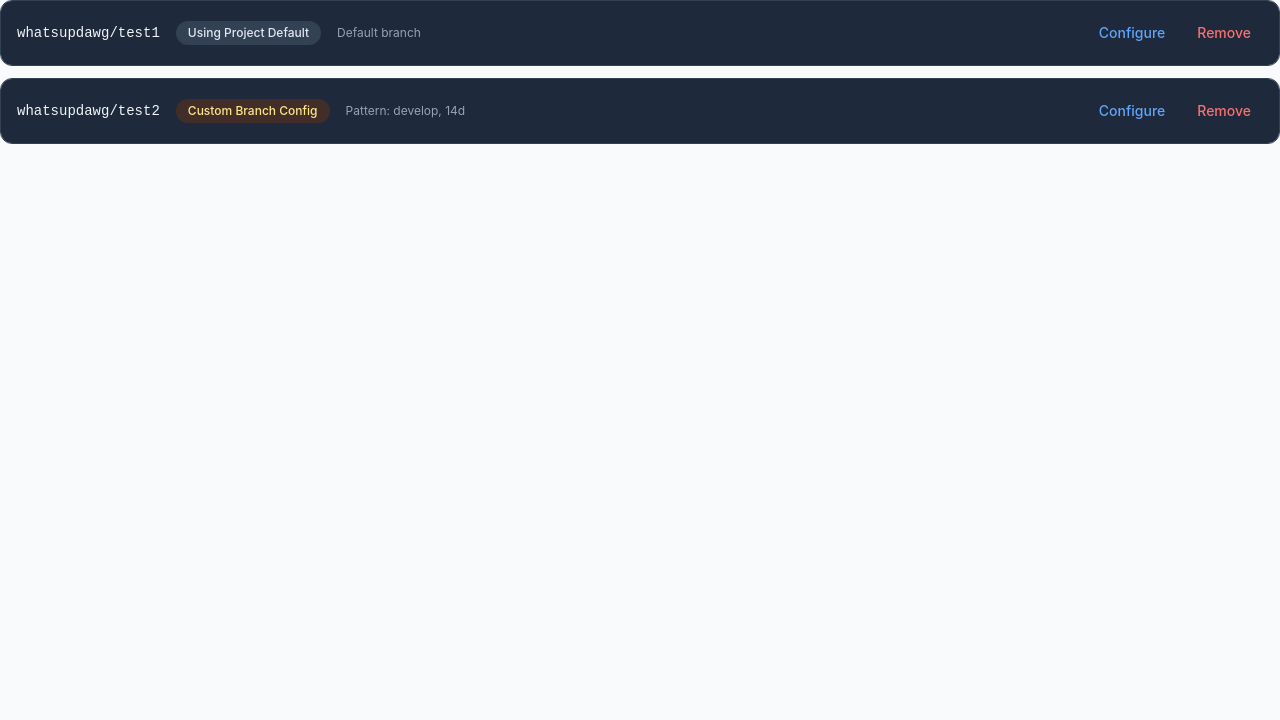
Test: RepoBranchOverridesPanel › shows error message when API fails
Click the button "Configure" in the row of "Default branch".
click(1132, 33)  # box x1=1087 y1=17 x2=1177 y2=49
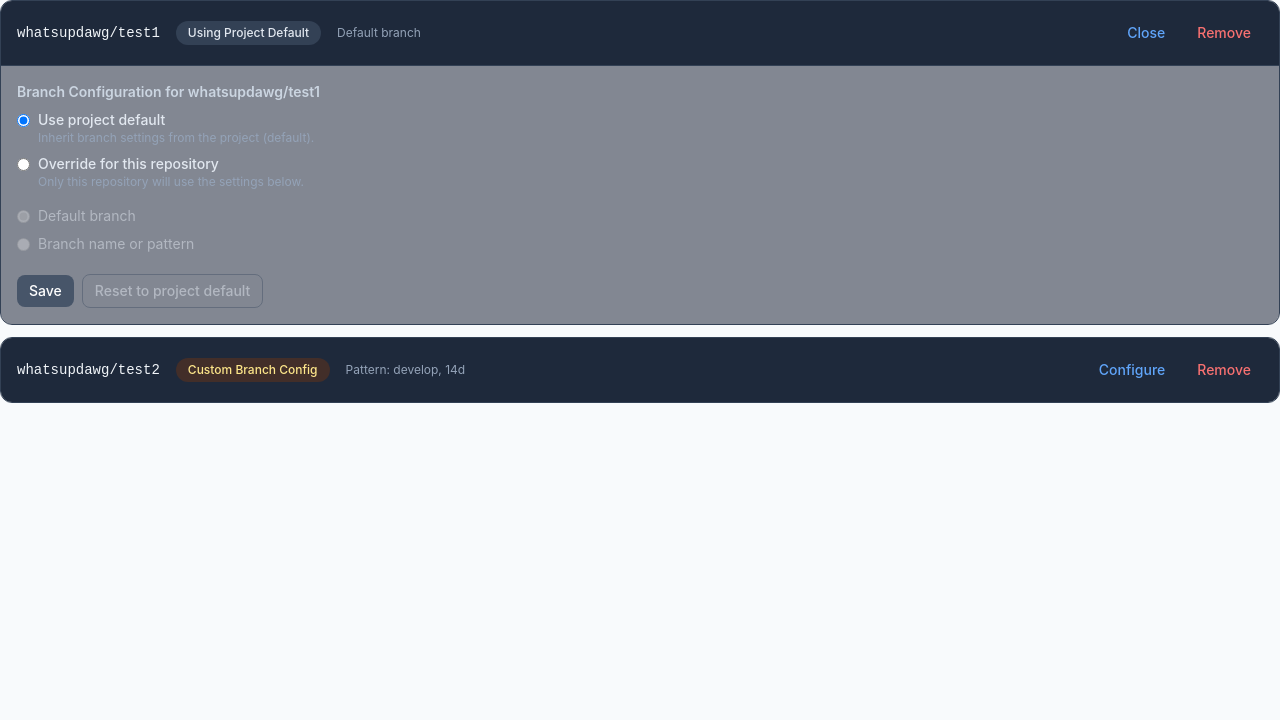
Click the radio button with test id "mode-override".
click(24, 164)  # box x1=17 y1=158 x2=30 y2=171
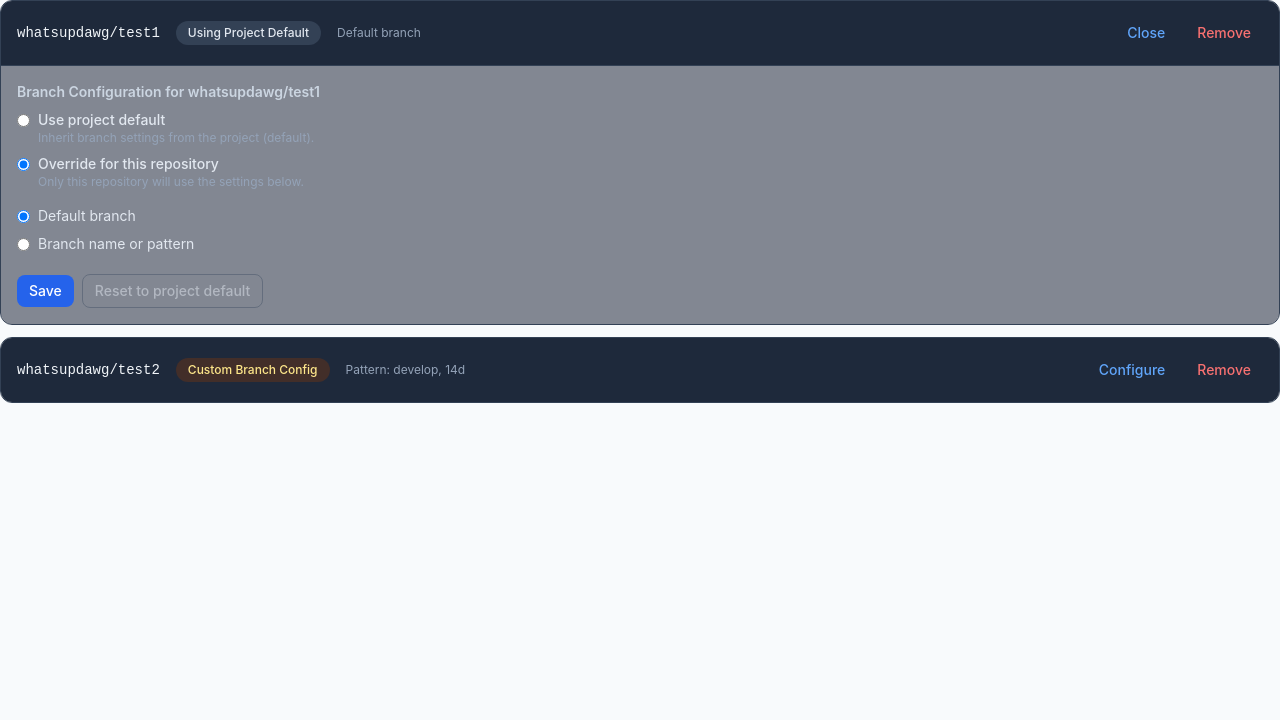
Click the radio button with test id "option-pattern".
click(24, 244)  # box x1=17 y1=238 x2=30 y2=250
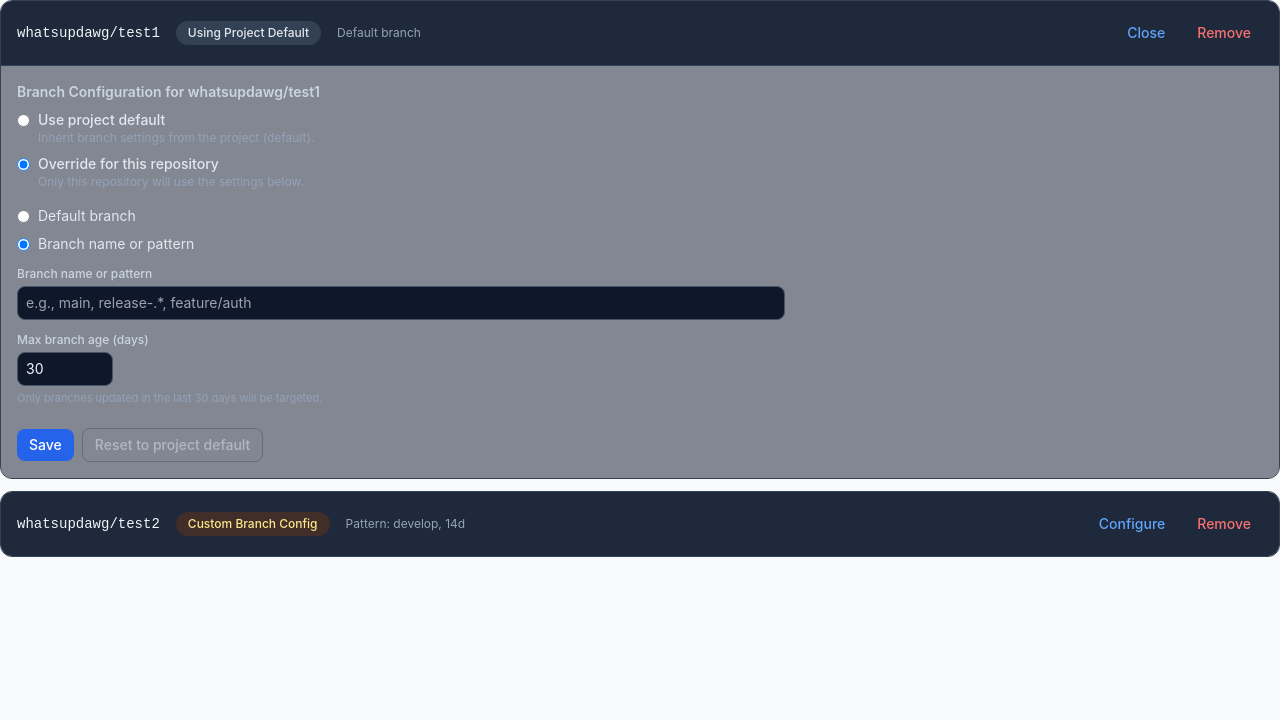
Type "main" into the field with test id "input-regex".
click(401, 303); type("main")  # box x1=17 y1=286 x2=785 y2=320
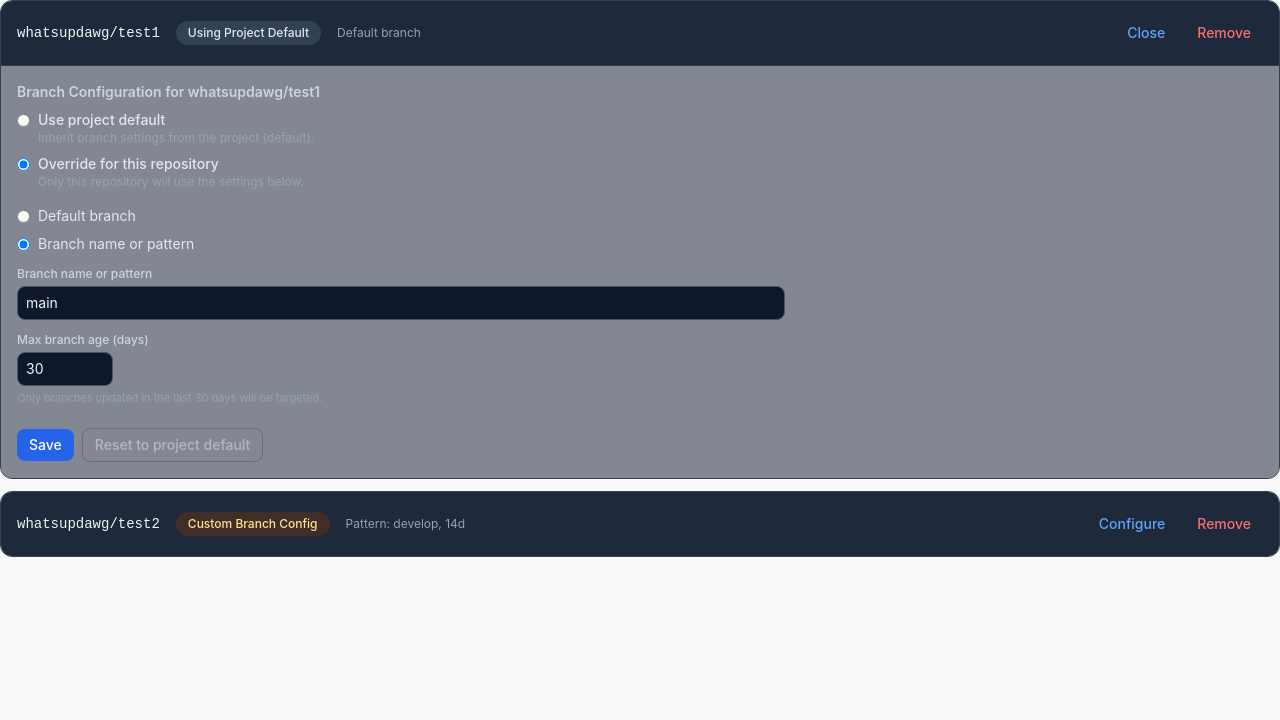
Click the button with test id "save-btn".
click(45, 445)  # box x1=17 y1=429 x2=74 y2=461
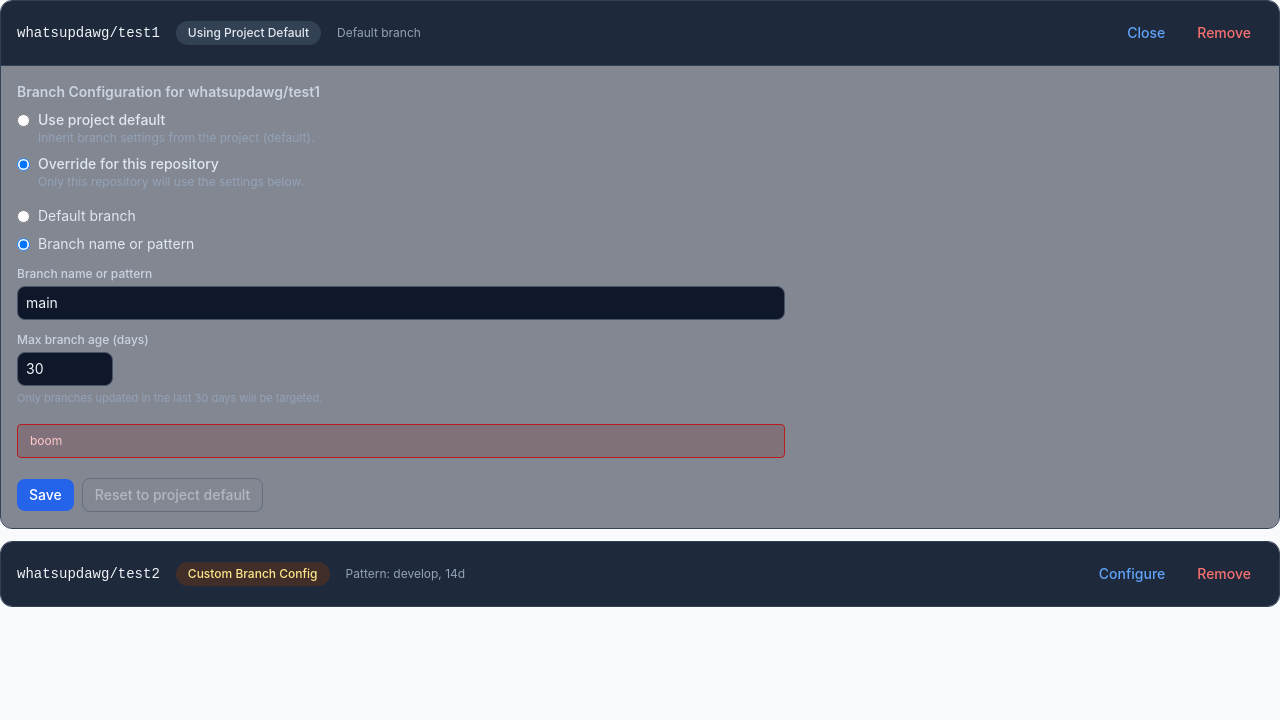
Now the message with test id "save-error" reads "boom", box x1=30 y1=433 x2=62 y2=448
